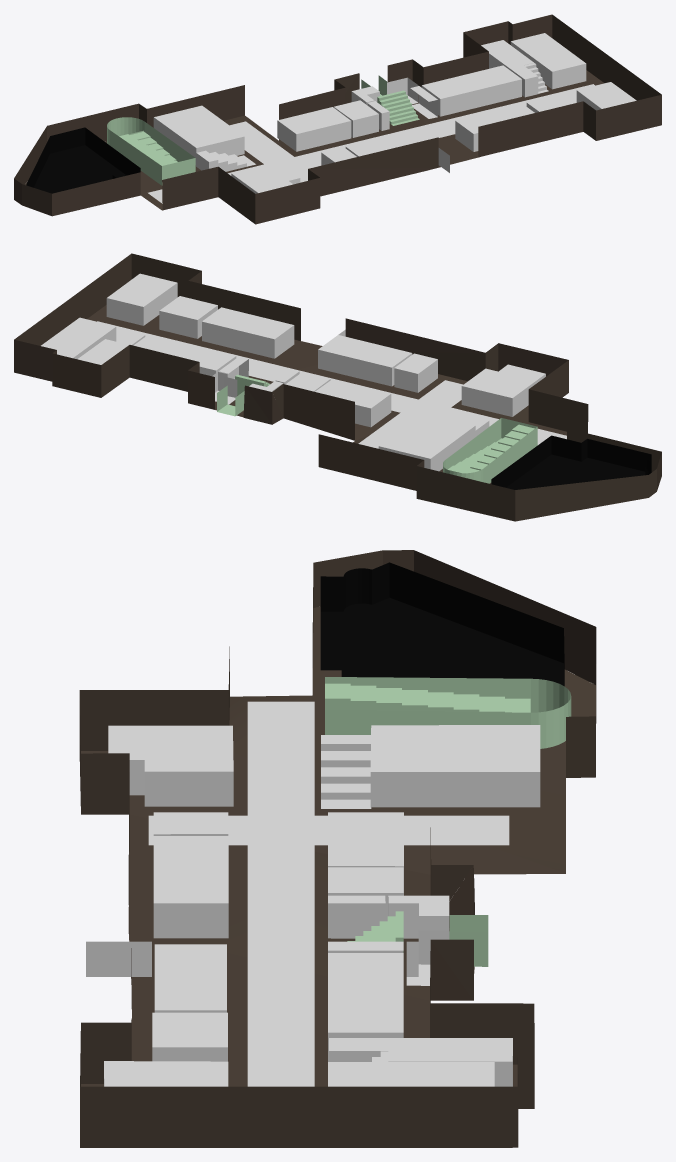
File: first_floor.glb
3 views of the same model, one above another, from view 1: azimuth 30°, elevation 25°; view 2: azimuth 150°, elevation 25°; view 3: azimuth 270°, elevation 25° (orthographic). The views are drawn at different scales.
Visible parts, largest first — view 1: Ground, one stop shop, path, sp admin, city treasurers, stairs, city planning office, city auditors 2, CDCCO, city treasurers 2, SH, city budget office (+11 smaller); view 2: Ground, one stop shop, path, SH, city treasurers, city accountant, city treasurers 2, city budget office, stairs, city auditors 2, city planning office, AIMD (+8 smaller); view 3: Ground, path, one stop shop, city treasurers, stairs, city treasurers 2, city accountant, sp admin, SH, CDCCO, city auditors 2, city planning office (+13 smaller).
Part boxes in pixels (x1,y1,x2,y2): Ground: (14,14,661,224); one stop shop: (26,127,140,193); path: (148,84,594,203); sp admin: (421,65,521,116); city treasurers: (153,105,244,164); stairs: (107,117,195,185); city planning office: (510,33,586,89); city auditors 2: (277,107,351,151); CDCCO: (481,40,538,97); city treasurers 2: (231,162,300,193); SH: (455,104,534,151); city budget office: (576,82,636,110); Ground: (14,253,661,521); one stop shop: (491,435,651,489); path: (97,321,566,448); SH: (202,307,294,358); city treasurers: (378,413,475,471); city accountant: (318,335,412,386); city treasurers 2: (461,364,545,416); city budget office: (106,273,177,325); stairs: (443,418,537,483); city auditors 2: (315,379,391,427); city planning office: (41,317,116,358); AIMD: (159,296,217,338); Ground: (79,550,596,1147); path: (148,701,509,1086); one stop shop: (320,562,564,686); city treasurers: (370,725,540,807); stairs: (325,677,571,748); city treasurers 2: (108,725,233,806); city accountant: (153,836,228,938); sp admin: (328,953,403,1061); SH: (154,944,226,1012); CDCCO: (329,1038,512,1086); city auditors 2: (328,812,403,895); city planning office: (328,1062,494,1086).
Bounding box in the file's own units: 4.3 × 0.2781 × 1.71.
